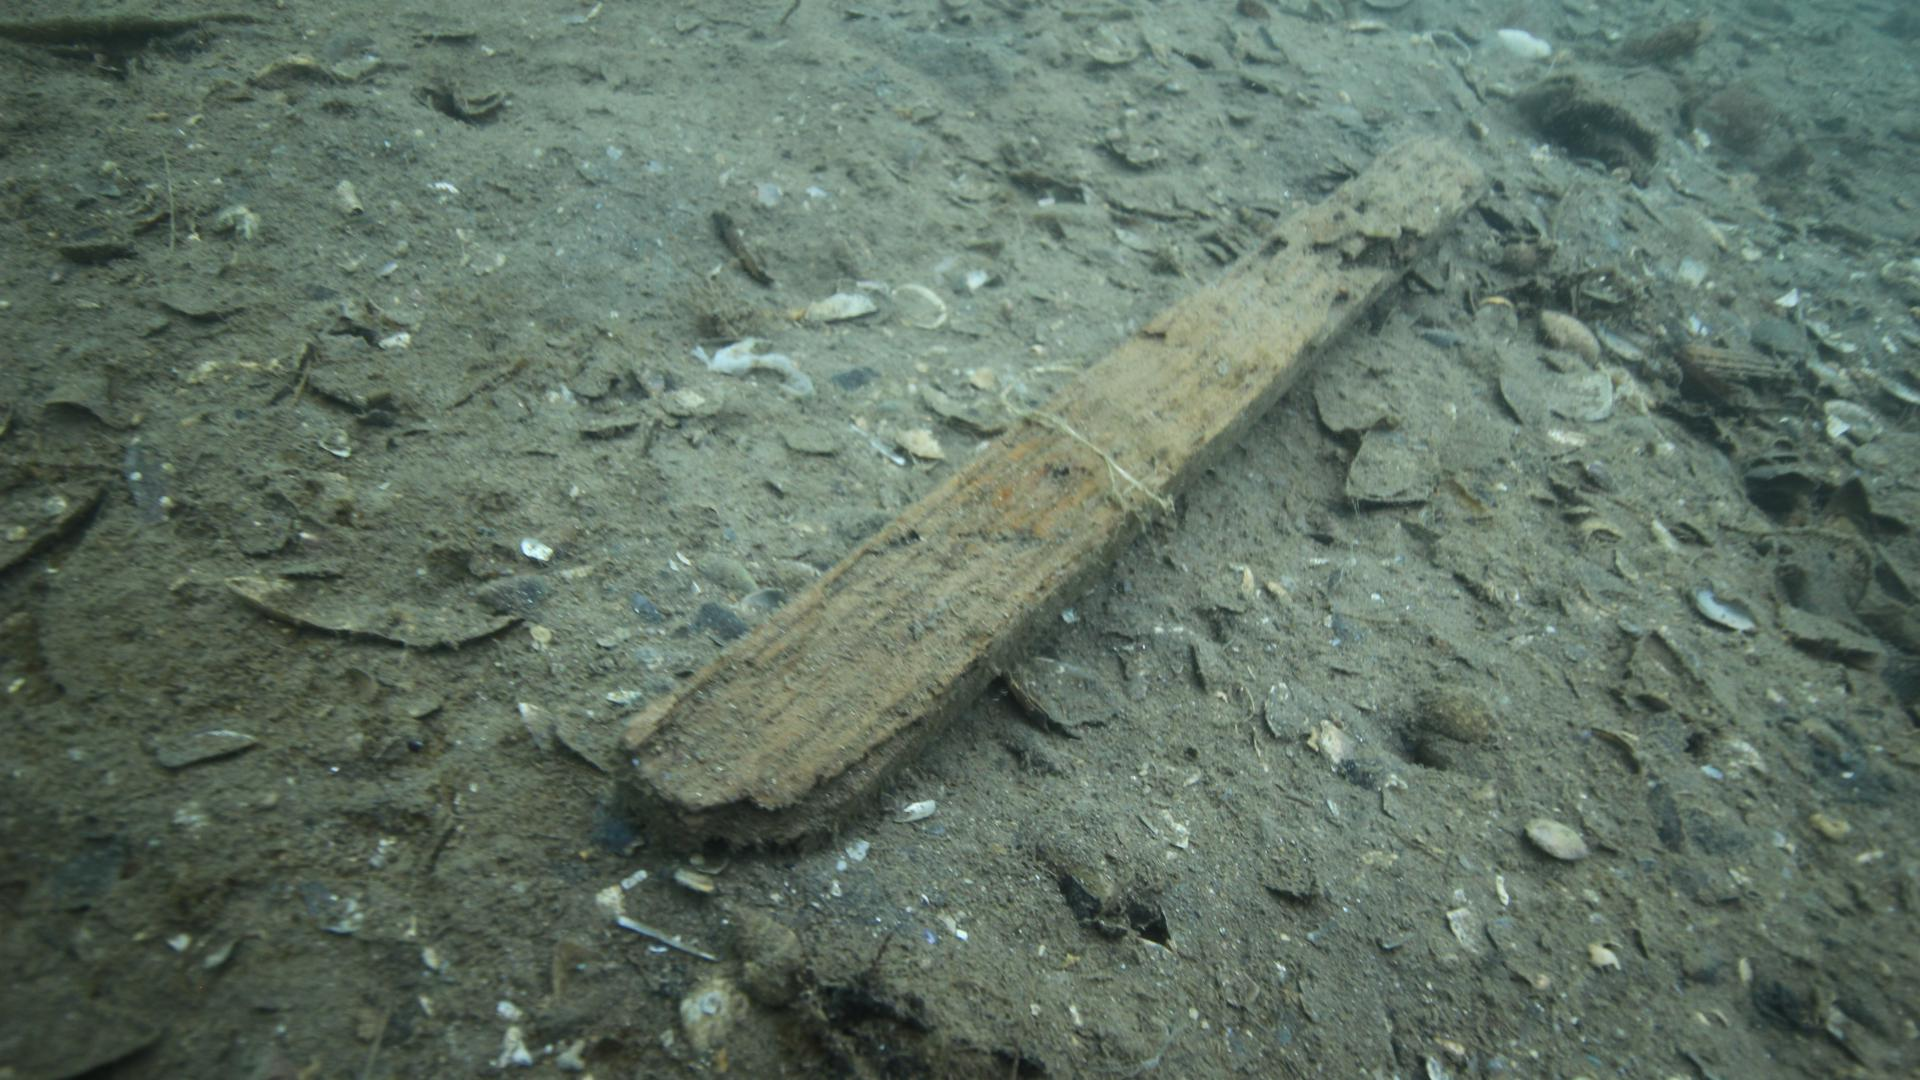wood: (613, 132, 1490, 858)
